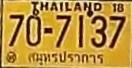0: (26, 14, 40, 45)
1: (78, 15, 83, 46)
3: (90, 15, 106, 47)
7: (109, 15, 125, 47), (56, 14, 70, 47), (9, 14, 23, 46)
SPK: (25, 48, 106, 67)
